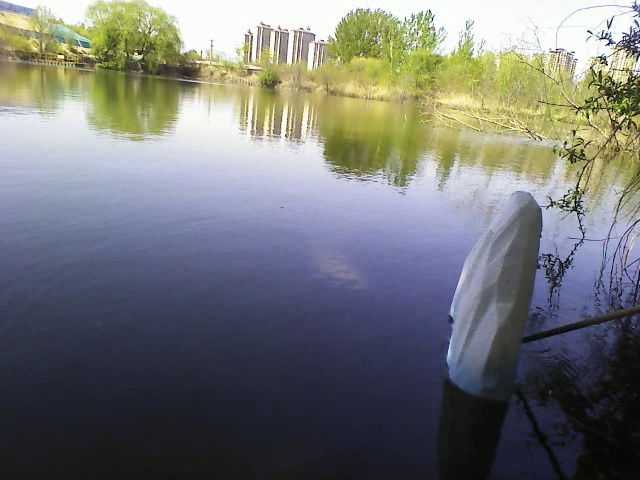iceberg: (436, 188, 548, 404)
